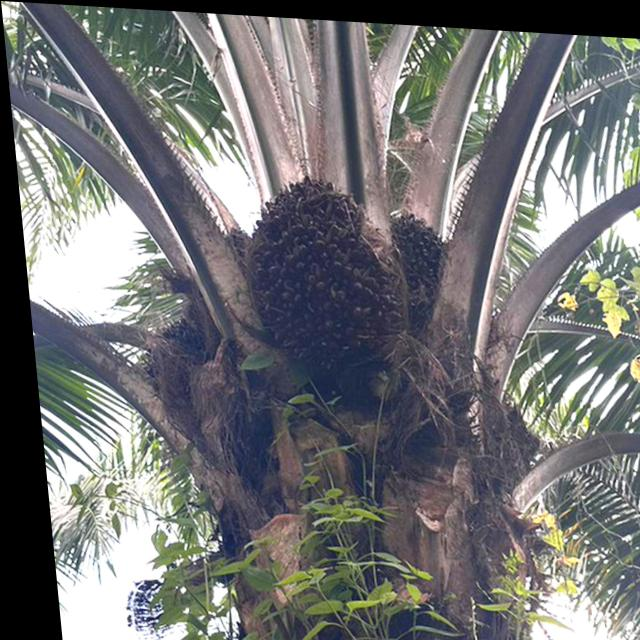unripe: (222, 163, 414, 384)
